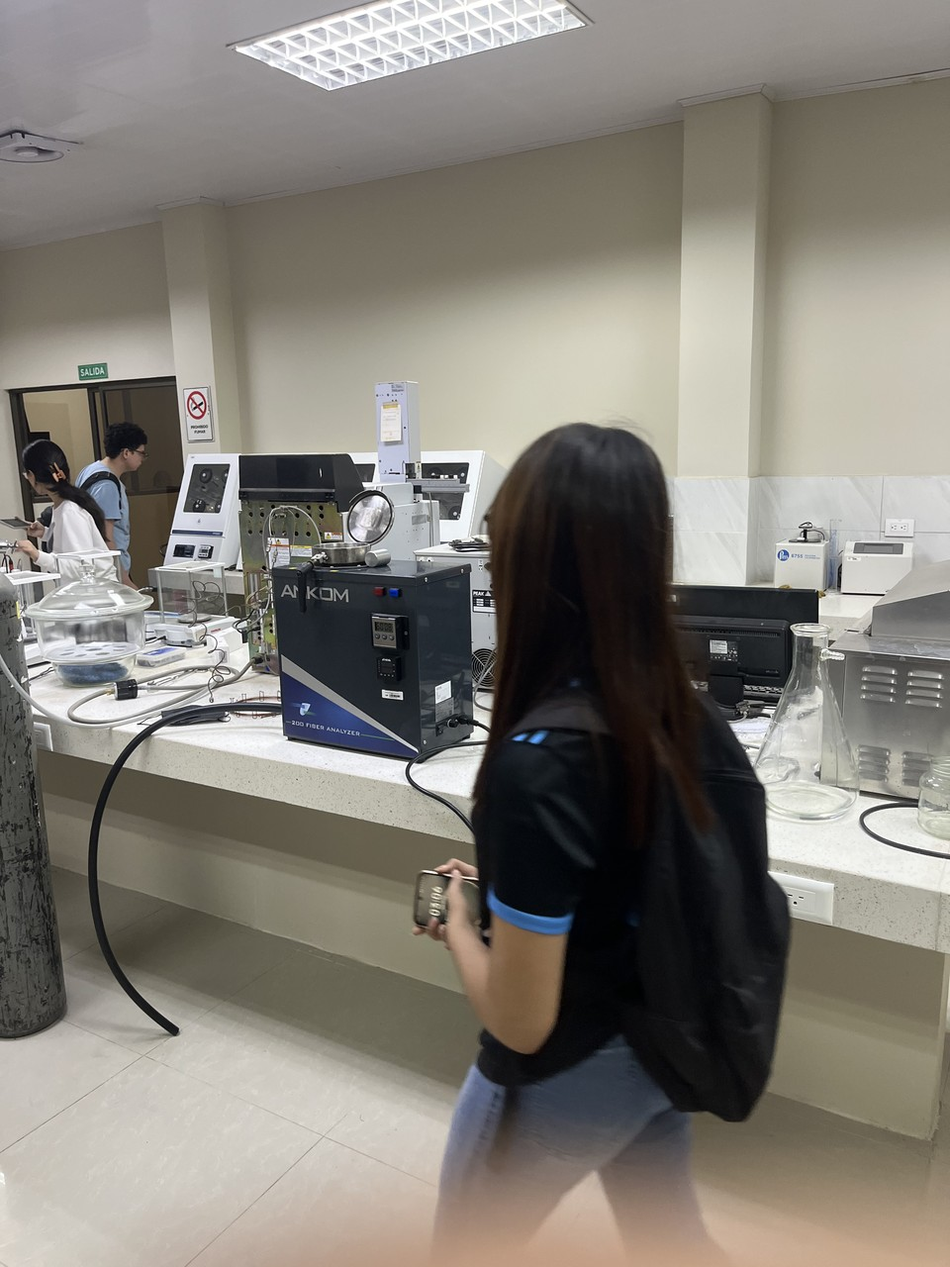ankom_200_fiber_analyzer: (266, 469, 485, 768)
